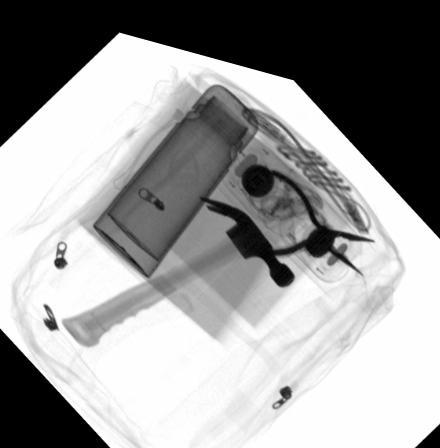Hammer: (60, 184, 294, 344)
Pliers: (263, 152, 375, 255)
